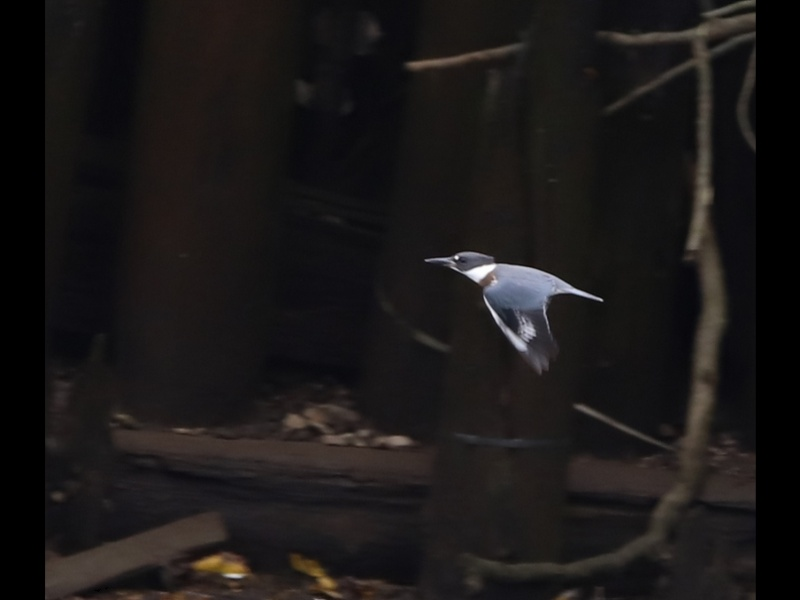kingfisher: (423, 247, 608, 377)
